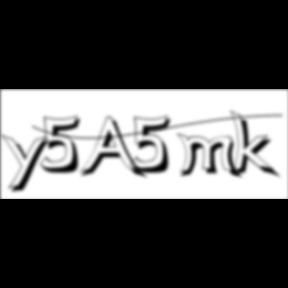5: (130, 114, 178, 176), (40, 114, 86, 176)
A: (79, 116, 148, 182)
k: (230, 108, 282, 181)
m: (177, 132, 245, 181)
y: (1, 132, 55, 196)
